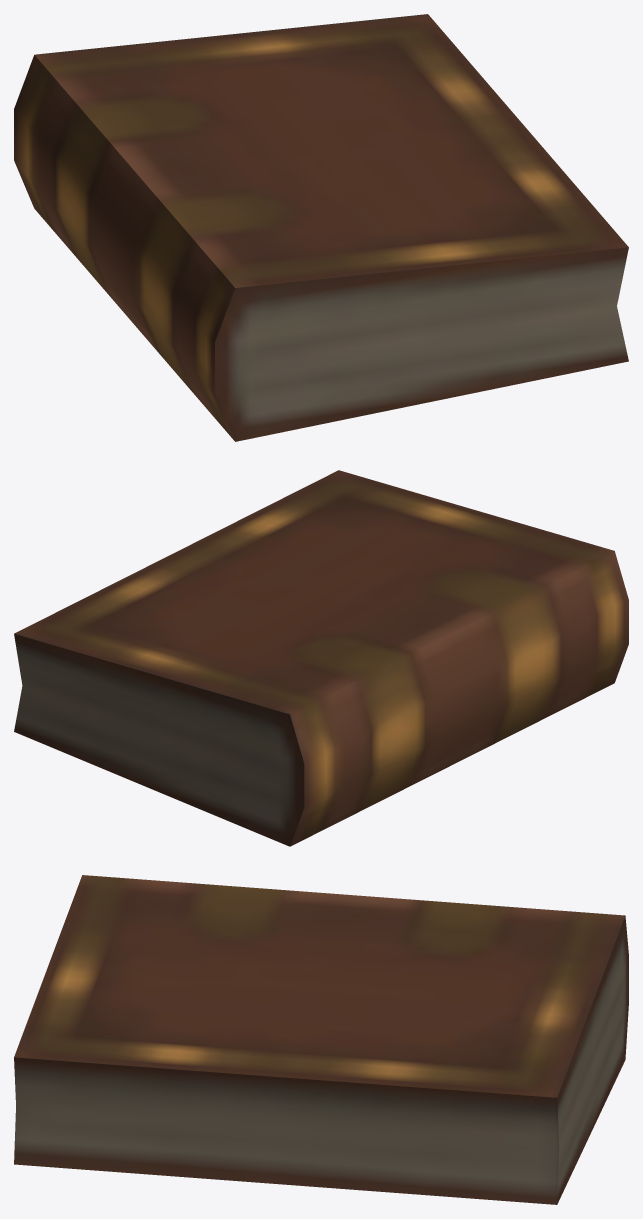
Rendered from book-4.FBX.
The picture shows the model from 3 angles, top to bottom: view 1: azimuth 30°, elevation 25°; view 2: azimuth 150°, elevation 25°; view 3: azimuth 270°, elevation 25°; orthographic projection. The views are drawn at different scales.
Parts seen in each view (by area): view 1: book-4; view 2: book-4; view 3: book-4.
Part boxes in pixels (x1=…): book-4: x1=14, y1=14, x2=628, y2=441; book-4: x1=14, y1=470, x2=628, y2=846; book-4: x1=14, y1=875, x2=628, y2=1204.
Size of the model in its own units: 54.24 by 17.19 by 66.31.
